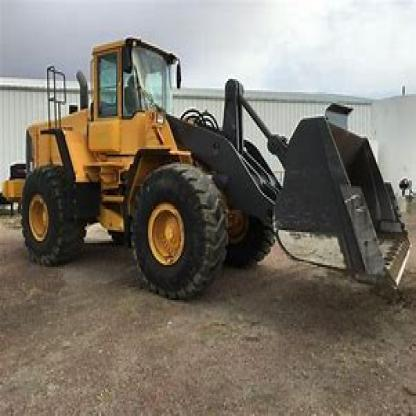bull_dozer/loader/grader: (3, 28, 414, 306)
